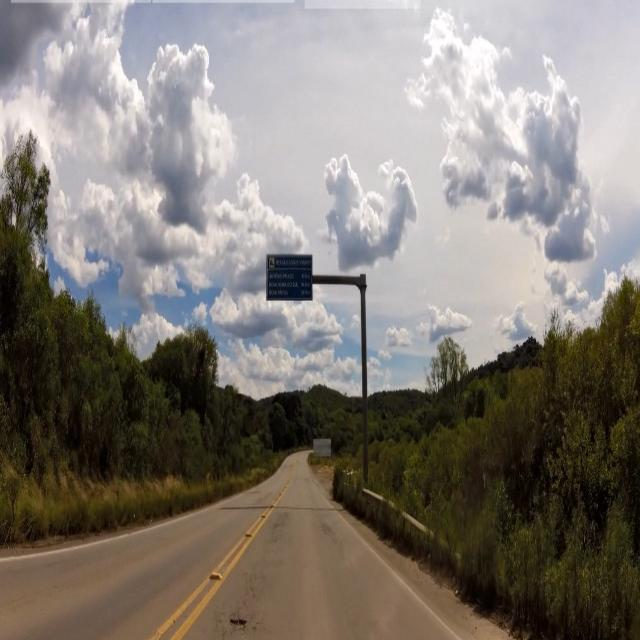LOC-6: (266, 255, 312, 303)
